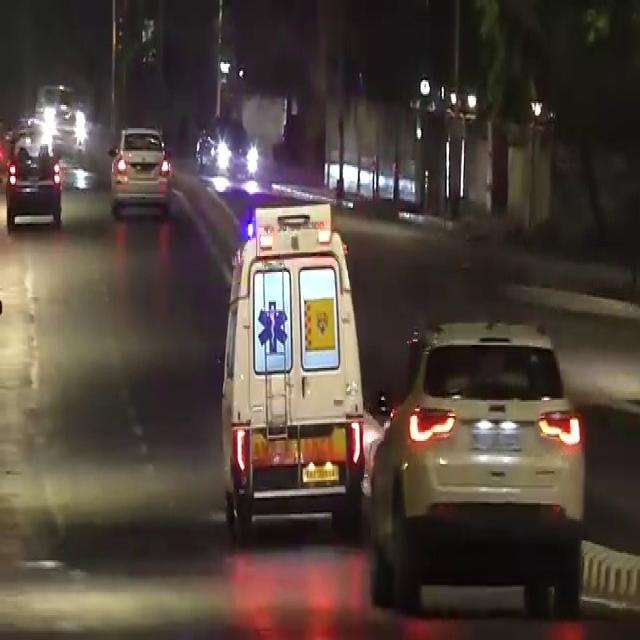ambulance: (212, 192, 361, 517)
